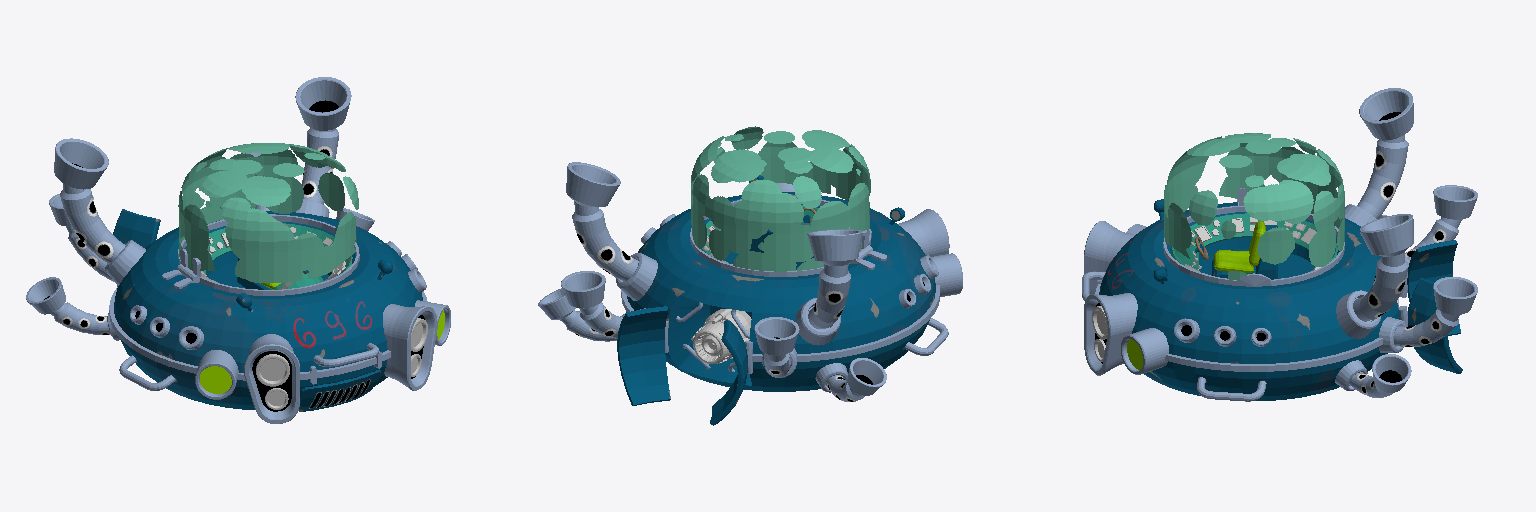
3 views of the same model, side by side, from view 1: azimuth 30°, elevation 25°; view 2: azimuth 150°, elevation 25°; view 3: azimuth 270°, elevation 25° (orthographic).
Visible parts, largest first — view 1: Mex..014_low, Mex..015_low, Mex1234_low, Mex777_low, Mex888_low, Mex..991_low, Mex..154_low, Mex..020_low, Mex123456_low, Mex..156_low, Mex555_low, Mex..024_low (+4 smaller); view 2: Mex..014_low, Mex..015_low, Mex1234_low, Mex..023_low, Mex..156_low, Mex777_low, Mex..024_low, Mex..020_low, Mex..166_low, Mex..151_low, Mex888_low, Mex123456_low (+1 smaller); view 3: Mex..014_low, Mex..015_low, Mex1234_low, Mex777_low, Mex..156_low, Mex888_low, Mex..023_low, Mex..020_low, Mex..024_low, Mex..154_low, Mex123456_low, Mex..016_low (+2 smaller).
Part boxes in pixels (left/top/right/bottom): Mex..014_low: left=114, top=211, right=422, bottom=409; Mex..015_low: left=178, top=143, right=358, bottom=282; Mex1234_low: left=26, top=77, right=374, bottom=334; Mex777_low: left=244, top=304, right=437, bottom=423; Mex888_low: left=195, top=300, right=450, bottom=399; Mex..991_low: left=299, top=369, right=380, bottom=411; Mex..154_low: left=178, top=214, right=359, bottom=295; Mex..020_low: left=109, top=287, right=427, bottom=380; Mex123456_low: left=130, top=241, right=426, bottom=349; Mex..156_low: left=105, top=199, right=329, bottom=340; Mex555_low: left=256, top=318, right=427, bottom=386; Mex..024_low: left=113, top=209, right=160, bottom=247; Mex..014_low: left=627, top=192, right=935, bottom=391; Mex..015_low: left=691, top=126, right=870, bottom=271; Mex1234_low: left=538, top=162, right=886, bottom=401; Mex..023_low: left=617, top=306, right=670, bottom=405; Mex..156_low: left=616, top=253, right=847, bottom=392; Mex777_low: left=776, top=183, right=949, bottom=256; Mex..024_low: left=710, top=320, right=747, bottom=425; Mex..020_low: left=621, top=285, right=939, bottom=361; Mex..166_low: left=693, top=309, right=751, bottom=363; Mex..151_low: left=676, top=302, right=948, bottom=371; Mex888_low: left=931, top=253, right=962, bottom=296; Mex123456_low: left=641, top=214, right=938, bottom=308; Mex..014_low: left=1099, top=202, right=1399, bottom=400; Mex..015_low: left=1164, top=133, right=1344, bottom=279; Mex1234_low: left=1349, top=88, right=1477, bottom=397; Mex777_low: left=1084, top=221, right=1137, bottom=375; Mex..156_low: left=1335, top=204, right=1406, bottom=390; Mex888_low: left=1121, top=224, right=1168, bottom=374; Mex..023_low: left=1408, top=278, right=1462, bottom=373; Mex..020_low: left=1095, top=284, right=1404, bottom=371; Mex..024_low: left=1407, top=240, right=1460, bottom=335; Mex..154_low: left=1163, top=206, right=1344, bottom=286; Mex123456_low: left=1174, top=318, right=1271, bottom=346; Mex..016_low: left=1170, top=213, right=1337, bottom=265.
Bounding box in the file's own units: 5.52 × 3.07 × 5.53.
6 materials, 3 textured.